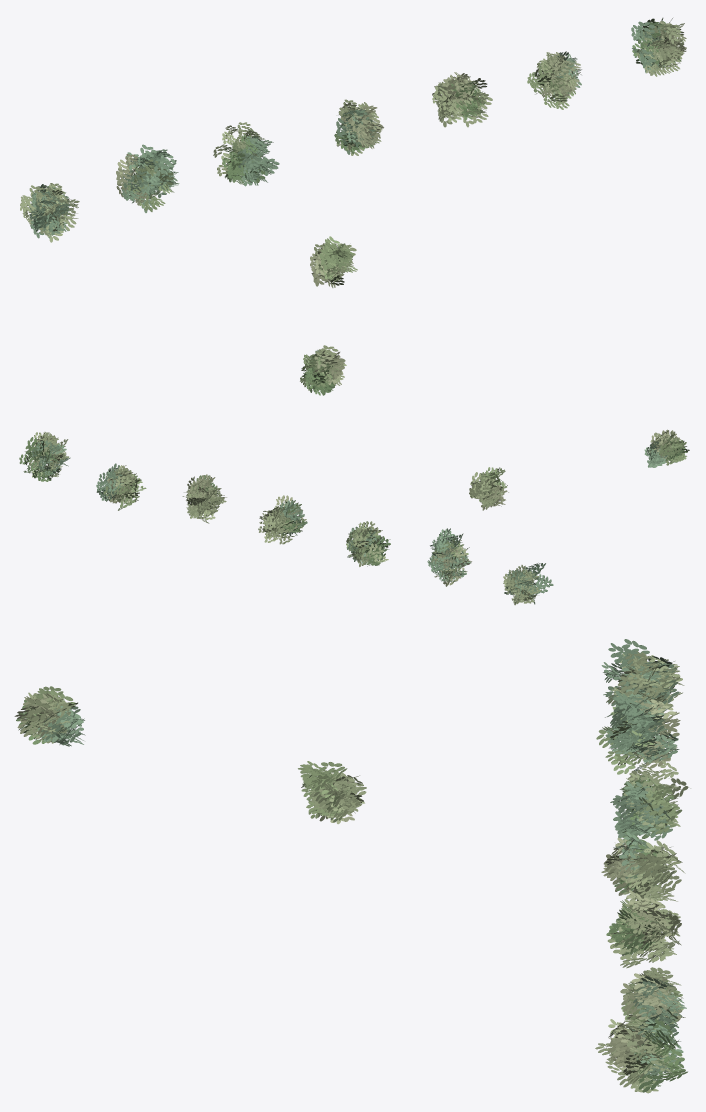
Rendered from campus-tree--2_-4-far.glb.
3 renders of one model, top to bottom at view 1: azimuth 30°, elevation 25°; view 2: azimuth 150°, elevation 25°; view 3: azimuth 270°, elevation 25°, orthographic. The views are drawn at different scales.
Parts seen in each view (by area): view 1: Campus leaf canopy; view 2: Campus leaf canopy; view 3: Campus leaf canopy.
Part boxes in pixels (box(x1,y1,x2,y2)): Campus leaf canopy: box(20, 18, 686, 395); Campus leaf canopy: box(19, 429, 689, 605); Campus leaf canopy: box(14, 639, 690, 1093).
Size of the model in its own units: 72.19 by 7.7 by 48.88.
Materials: 1 (1 with a texture image).
